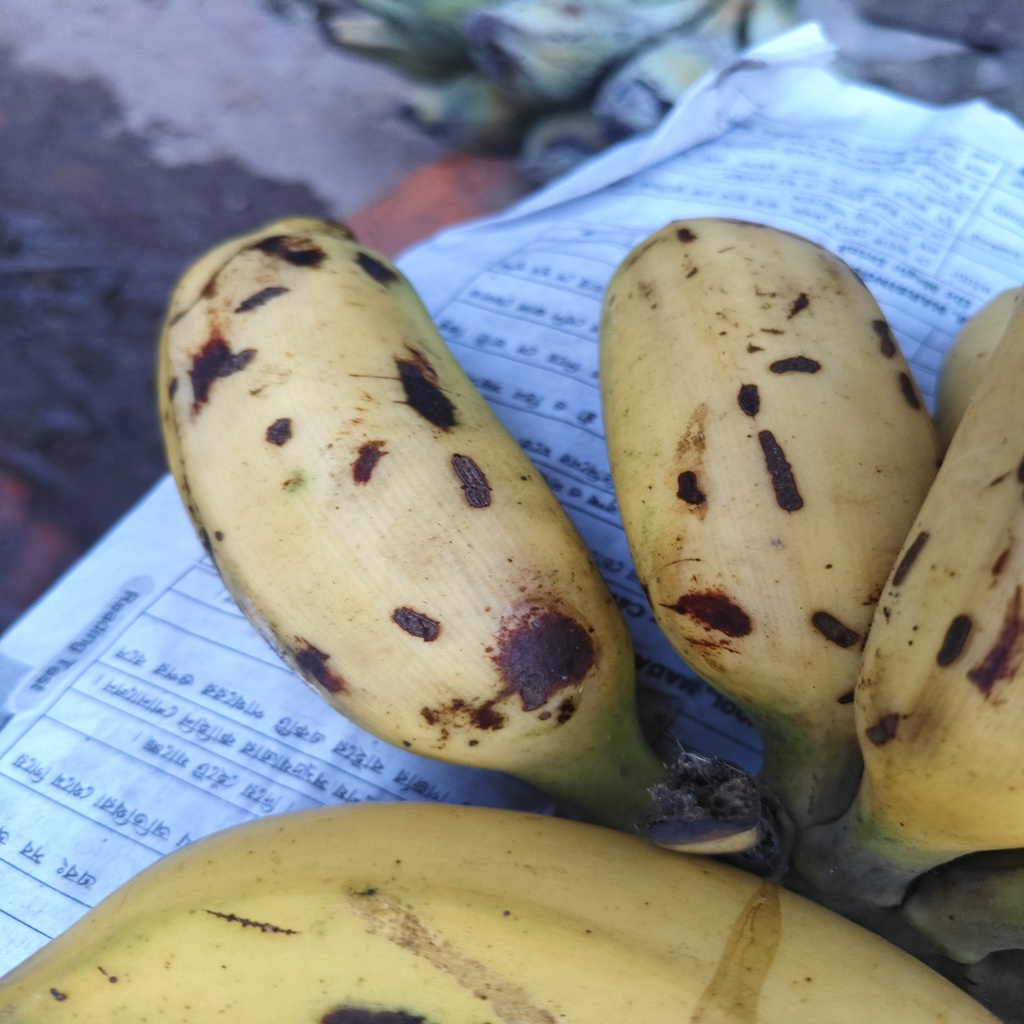unhealthy: (157, 216, 635, 788), (604, 218, 938, 717)
